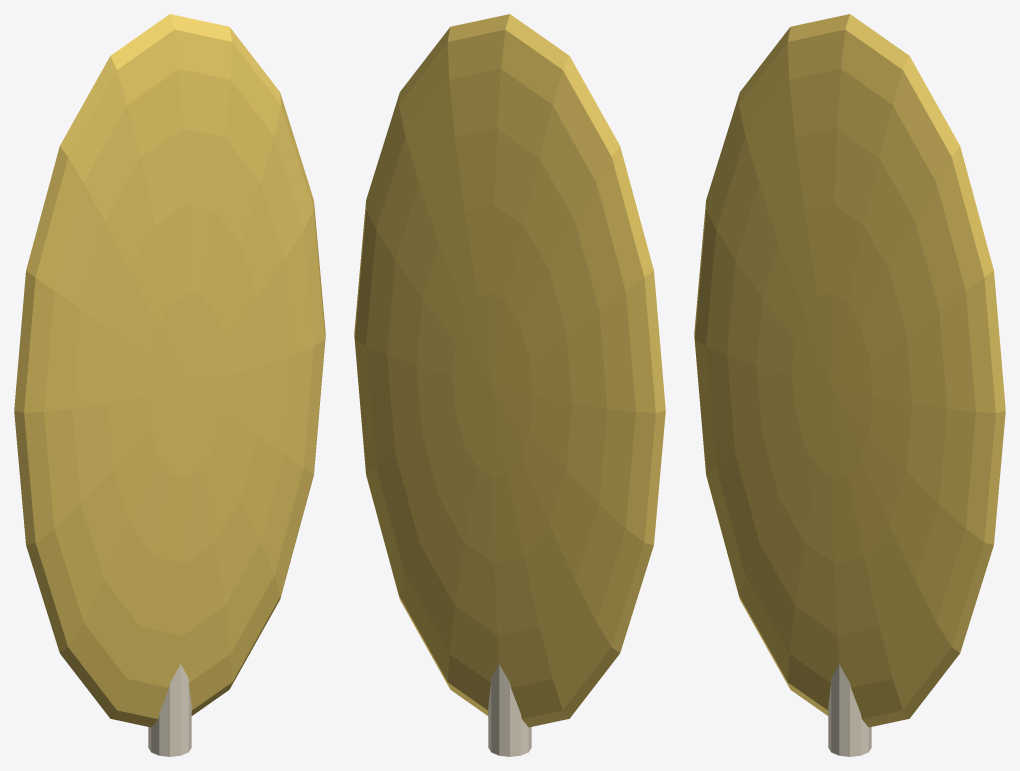
The model's file is feather.glb.
The picture shows the model from 3 angles, left to right: view 1: azimuth 30°, elevation 25°; view 2: azimuth 150°, elevation 25°; view 3: azimuth 330°, elevation 25°; orthographic projection.
Visible parts, largest first — view 1: Feather, Quill; view 2: Feather, Quill; view 3: Feather, Quill.
Boxes of the visible parts, <box> form: Feather: <box>14,14,325,727</box>; Quill: <box>148,664,191,756</box>; Feather: <box>354,14,665,727</box>; Quill: <box>488,664,531,756</box>; Feather: <box>694,14,1005,727</box>; Quill: <box>828,664,871,756</box>.
Bounding box in the file's own units: 0.2 × 0.45 × 0.04.
